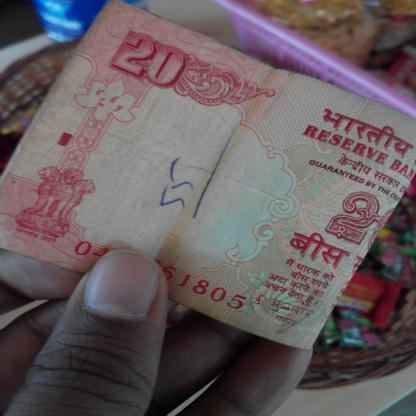Old20Front: (16, 17, 405, 309)
